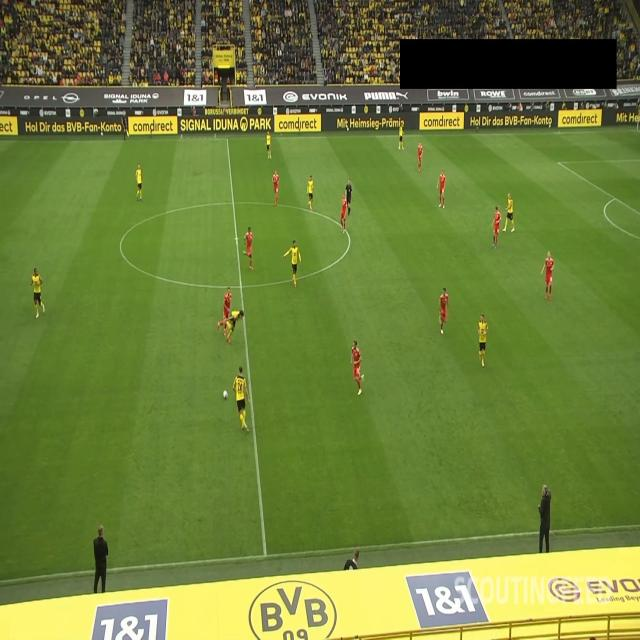ball: (222, 389, 229, 400)
